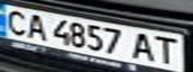4: (48, 17, 72, 46)
5: (84, 23, 106, 53)
7: (103, 25, 127, 56)
8: (66, 20, 87, 50)
A: (127, 29, 160, 62), (21, 11, 51, 40)
C: (0, 7, 30, 36)
T: (151, 34, 184, 65)
